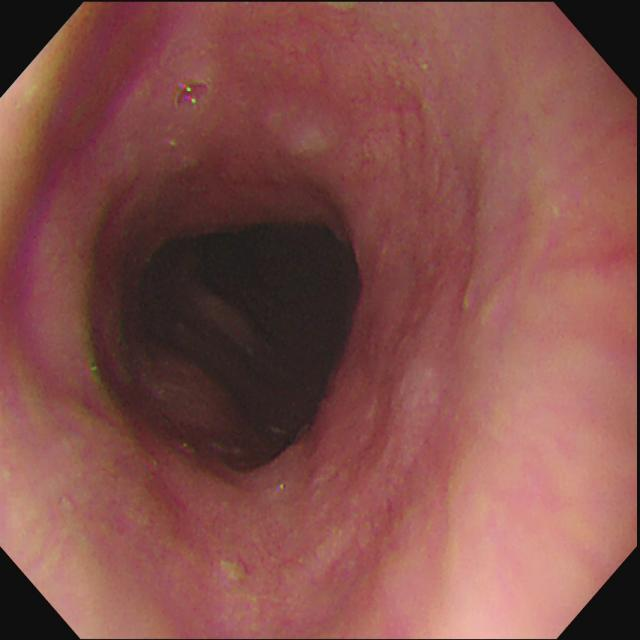E: (124, 200, 368, 481)
T: (174, 80, 212, 114)
